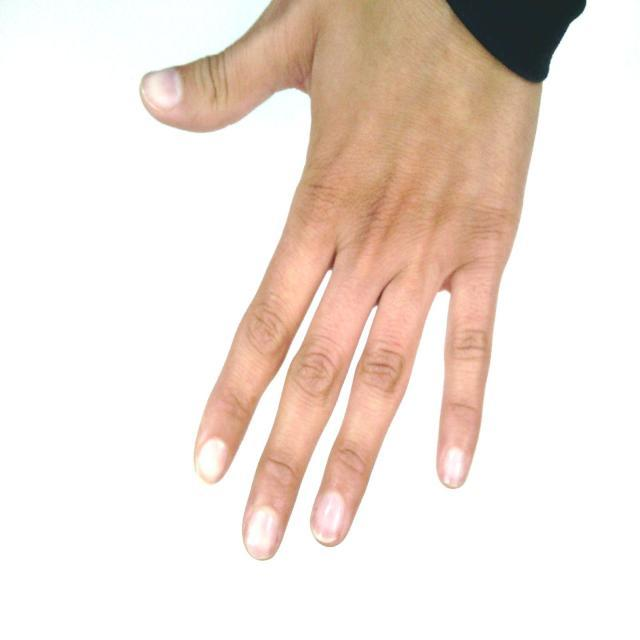Fingernail: (313, 492, 345, 543), (247, 509, 278, 558), (143, 70, 181, 109), (199, 440, 226, 483), (441, 448, 466, 486)
